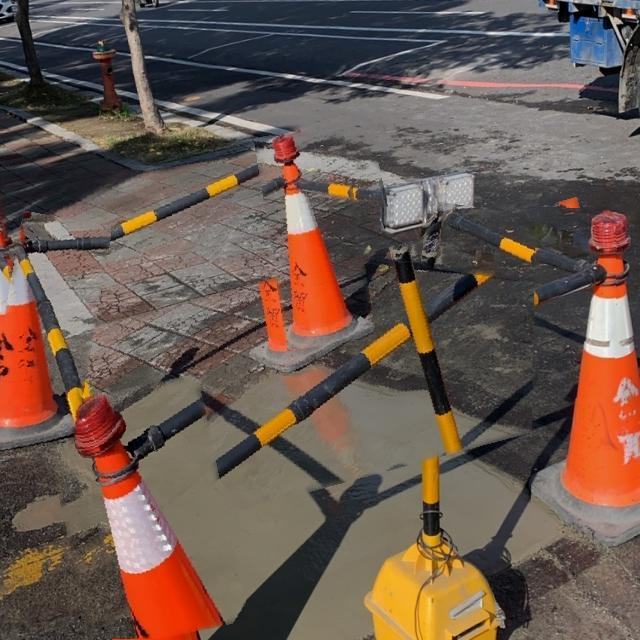car: (0, 0, 18, 26)
traffic cone: (72, 388, 226, 640), (529, 214, 640, 548), (248, 134, 376, 373), (0, 242, 60, 432), (91, 40, 123, 113)
